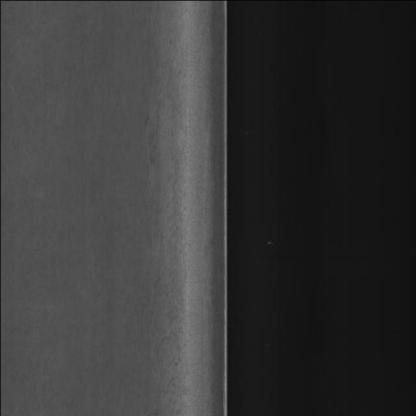silk_spot: (141, 28, 213, 391)
